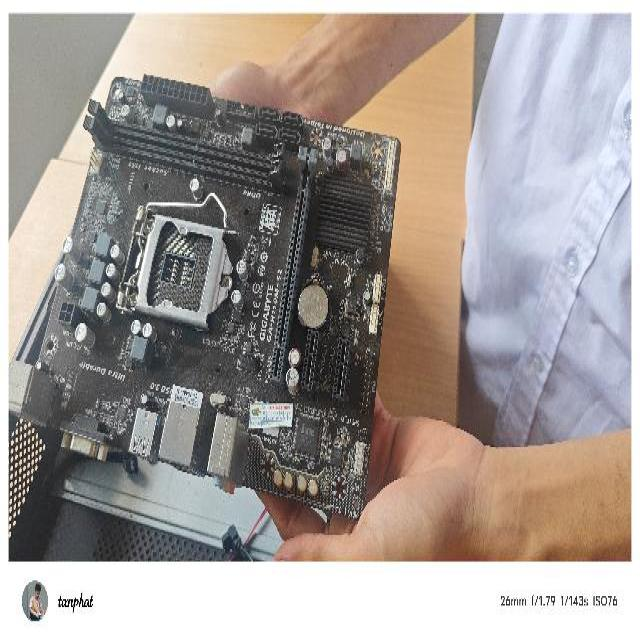Mainboard: (34, 72, 402, 526)
